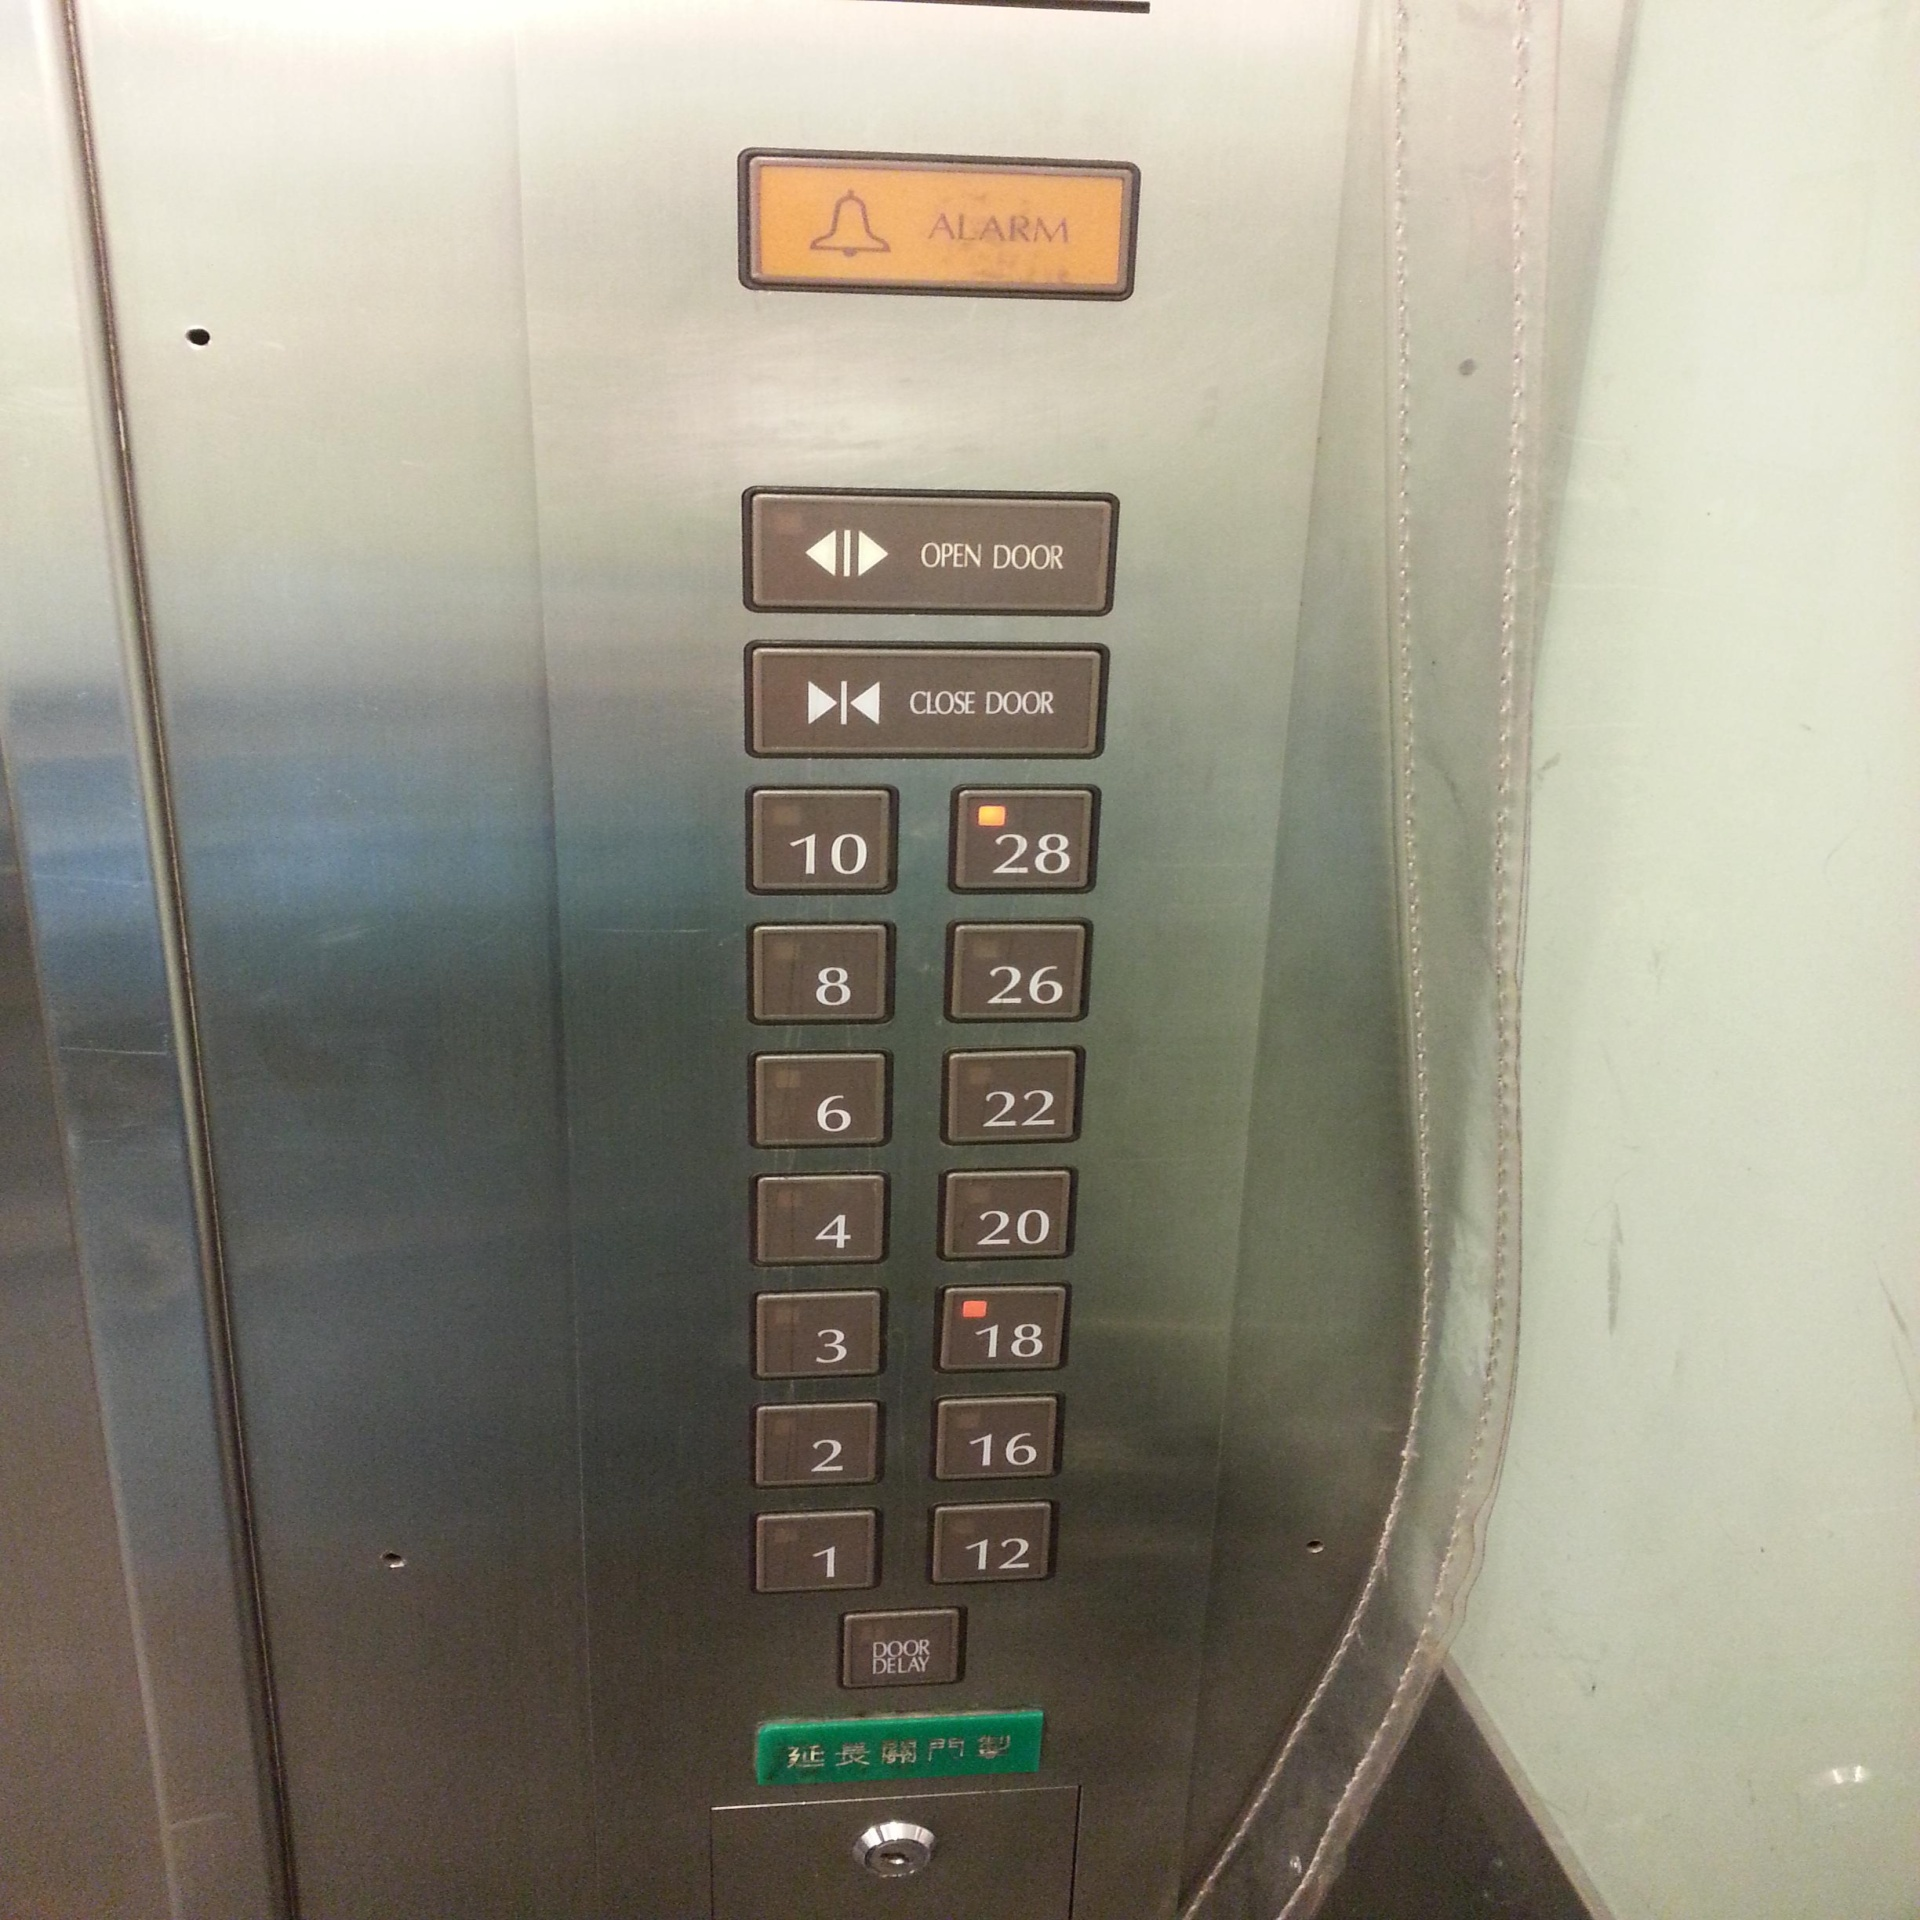1: (744, 1503, 890, 1598)
10: (744, 775, 907, 900)
12: (927, 1493, 1062, 1589)
16: (928, 1389, 1065, 1489)
18: (930, 1276, 1078, 1378)
2: (747, 1396, 888, 1493)
20: (934, 1160, 1078, 1266)
22: (935, 1041, 1090, 1148)
26: (942, 914, 1097, 1029)
28: (942, 775, 1104, 900)
3: (745, 1282, 893, 1387)
4: (745, 1166, 895, 1275)
6: (740, 1044, 900, 1155)
8: (740, 914, 904, 1030)
alarm: (730, 142, 1146, 315)
close: (737, 635, 1115, 767)
keyhole: (853, 1816, 941, 1888)
open: (735, 478, 1124, 624)
text_doordelay: (832, 1604, 976, 1695)
